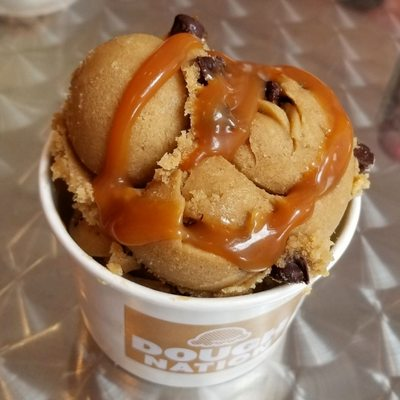sushi: (36, 11, 388, 389)
